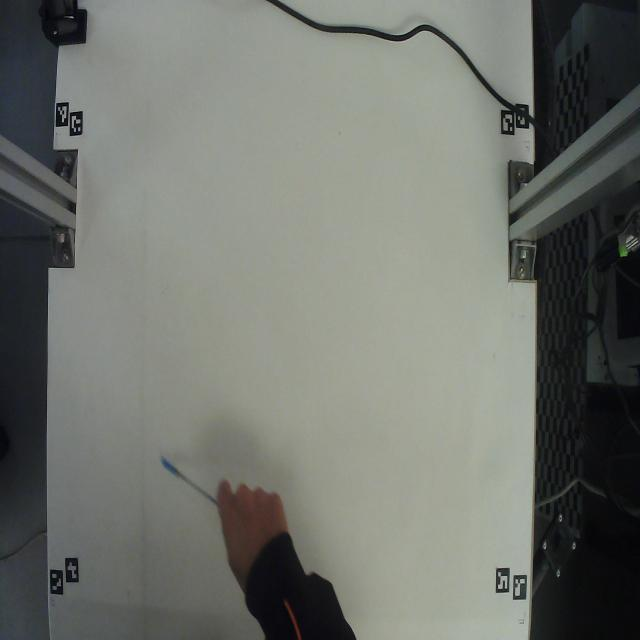NoPres: (143, 425, 224, 518)
